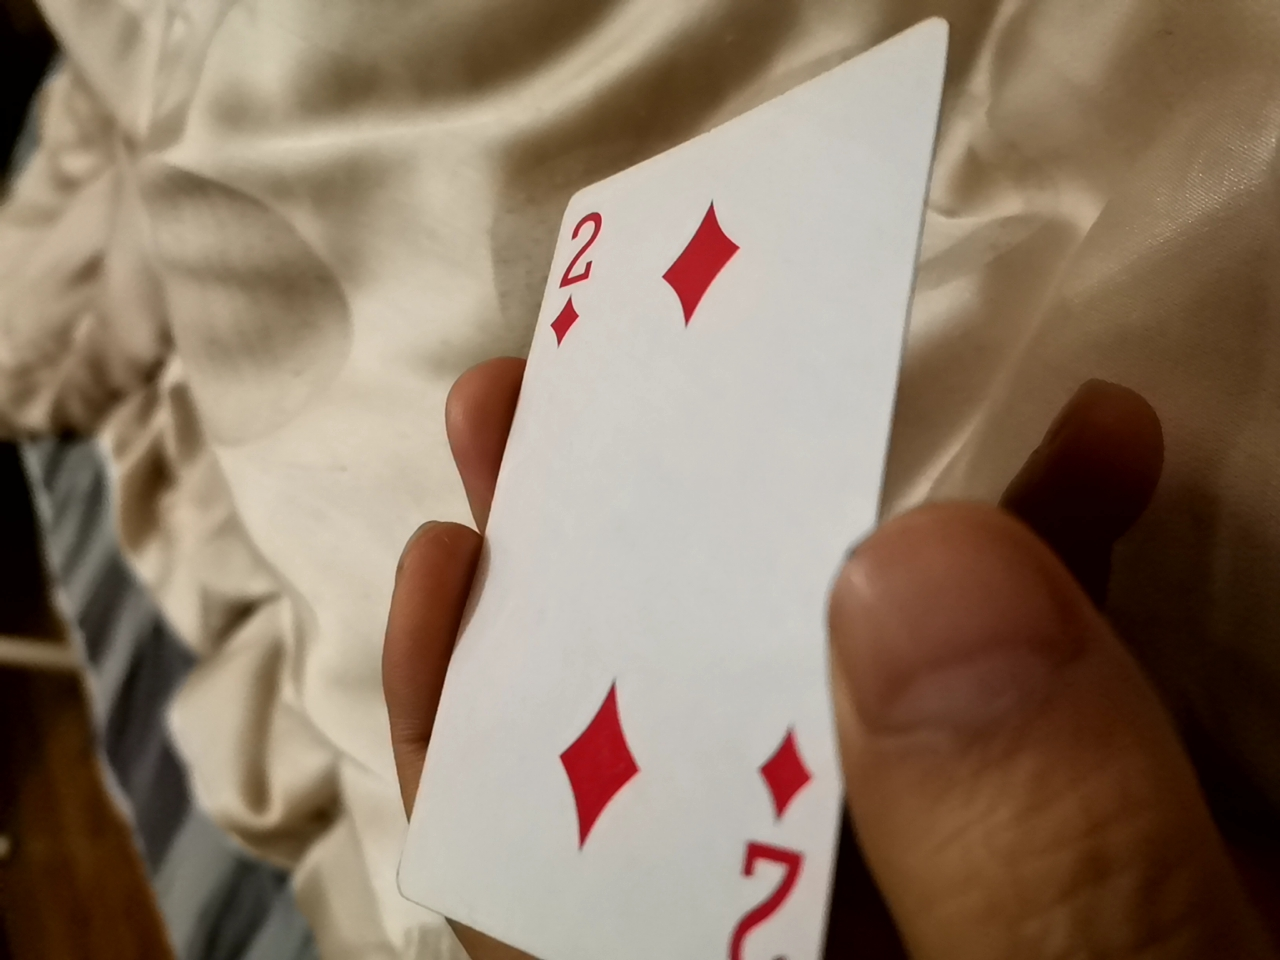fk 2: (318, 71, 972, 960)
